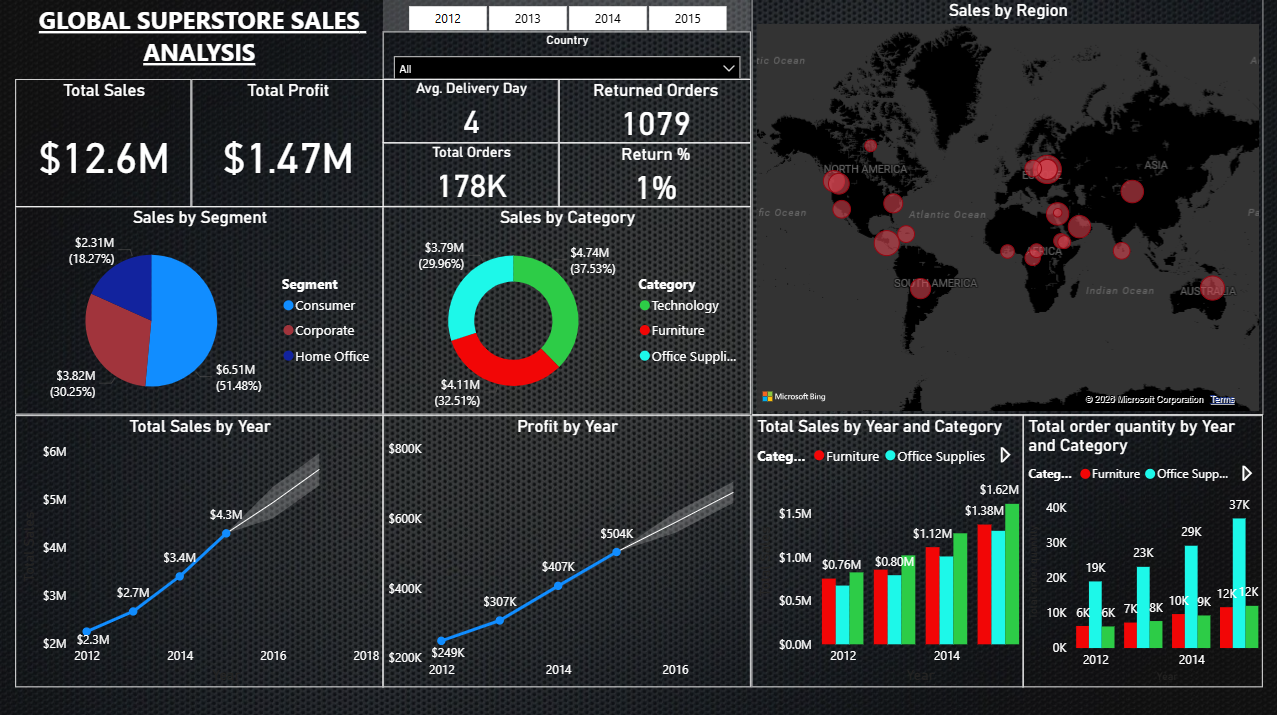

Layout of this report page (visuals, bound fields, positions):
{"tool":"powerbi","page":{"name":"Page 1","canvas":[1280,720],"ordinal":0},"visuals":[{"type":"card","title":"Total Profit","fields":{"Values":["Sum(Orders.Profit)"]},"box":[208,80,192,128],"z":0},{"type":"card","title":"Total Sales","fields":{"Values":["Sum(Orders.Sales)"]},"box":[16,80,192,128],"z":1000},{"type":"card","title":"Avg. Delivery Day","fields":{"Values":["Avg(Orders.Delivery Days)"]},"box":[400,80,160,64],"z":2000},{"type":"slicer","fields":{"Values":["Orders.Year"]},"box":[384,0,368,32],"z":3000},{"type":"card","title":"Returned Orders","fields":{"Values":["Sum(Returns.Return Orders)"]},"box":[560,80,192,128],"z":4000},{"type":"map","fields":{"Category":["Orders.Region"],"Size":["Sum(Orders.Sales)"]},"box":[752,0,512,416],"z":5000},{"type":"pieChart","fields":{"Category":["Orders.Segment"],"Y":["Sum(Orders.Sales)"]},"box":[16,208,368,208],"z":6000},{"type":"donutChart","fields":{"Y":["Sum(Orders.Sales)"],"Category":["Orders.Category"]},"box":[384,208,368,208],"z":7000},{"type":"lineChart","fields":{"Category":["Orders.Year"],"Y":["Orders.Total Sales"]},"box":[16,416,368,272],"z":8000},{"type":"textbox","box":[16,0,368,80],"z":9000},{"type":"clusteredColumnChart","fields":{"Category":["Orders.Year"],"Series":["Orders.Category"],"Y":["Orders.Total Sales"]},"box":[752,416,272,272],"z":10000},{"type":"lineChart","fields":{"Category":["Orders.Year"],"Y":["Sum(Orders.Profit)"]},"box":[384,416,368,272],"z":11000},{"type":"clusteredColumnChart","fields":{"Category":["Orders.Year"],"Series":["Orders.Category"],"Y":["Orders.Total order quantity"]},"box":[1024,416,240,272],"z":12000},{"type":"slicer","title":"Country","fields":{"Values":["Orders.Country"]},"box":[384,32,368,48],"z":13000},{"type":"card","title":"Total Orders","fields":{"Values":["Orders.Total order quantity"]},"box":[400,144,160,64],"z":14000}]}

Visuals, with their boxes in screenshot pixels (x1, y1, x2, y2), scaled from the page's 1280x720 canvas onto the 1277x715 screenshot:
"Total Profit" card: x1=208, y1=79, x2=399, y2=207
"Total Sales" card: x1=16, y1=79, x2=208, y2=207
"Avg. Delivery Day" card: x1=399, y1=79, x2=559, y2=143
slicer - Orders.Year: x1=383, y1=0, x2=750, y2=32
"Returned Orders" card: x1=559, y1=79, x2=750, y2=207
map - Orders.Region x Sum(Orders.Sales): x1=750, y1=0, x2=1261, y2=413
pieChart - Orders.Segment x Sum(Orders.Sales): x1=16, y1=207, x2=383, y2=413
donutChart - Sum(Orders.Sales) x Orders.Category: x1=383, y1=207, x2=750, y2=413
lineChart - Orders.Year x Orders.Total Sales: x1=16, y1=413, x2=383, y2=683
textbox: x1=16, y1=0, x2=383, y2=79
clusteredColumnChart - Orders.Year x Orders.Category: x1=750, y1=413, x2=1022, y2=683
lineChart - Orders.Year x Sum(Orders.Profit): x1=383, y1=413, x2=750, y2=683
clusteredColumnChart - Orders.Year x Orders.Category: x1=1022, y1=413, x2=1261, y2=683
"Country" slicer: x1=383, y1=32, x2=750, y2=79
"Total Orders" card: x1=399, y1=143, x2=559, y2=207
